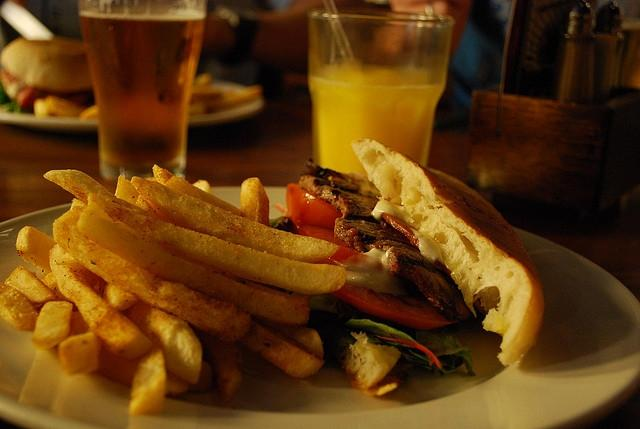lettuce: (308, 292, 417, 340), (416, 330, 476, 376), (345, 318, 417, 342), (0, 83, 26, 113)
tomato: (331, 284, 457, 330), (283, 182, 343, 232), (293, 223, 360, 262)
